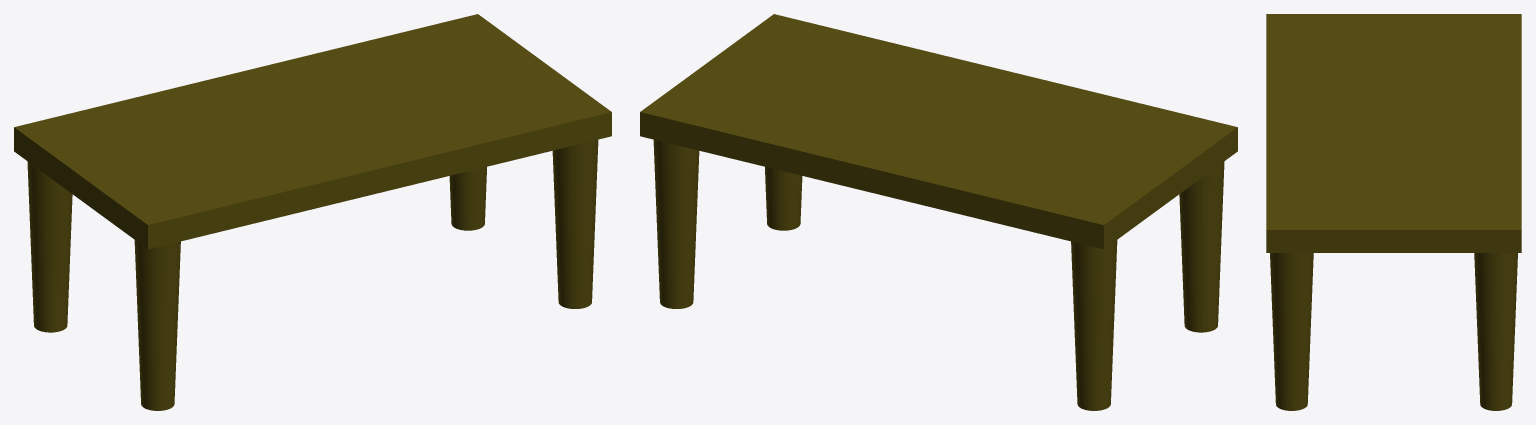
The model's file is Long_Table_Color.fbx.
The picture shows the model from 3 angles, left to right: view 1: azimuth 30°, elevation 25°; view 2: azimuth 150°, elevation 25°; view 3: azimuth 270°, elevation 25°; orthographic projection. The views are drawn at different scales.
Parts seen in each view (by area): view 1: Object; view 2: Object; view 3: Object.
Part boxes in pixels (box(x1,y1,x2,y2)): Object: box(14, 14, 611, 410); Object: box(640, 14, 1237, 410); Object: box(1266, 14, 1521, 410).
Bounding box in the file's own units: 200 × 80 × 100.
